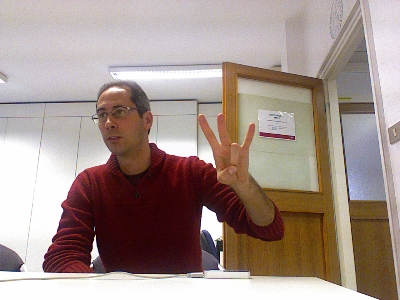观音: (194, 111, 256, 188)
